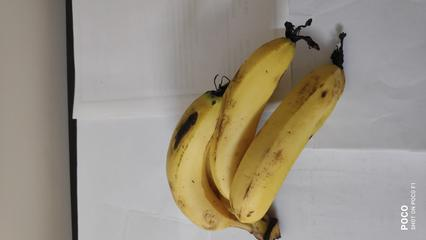banana: (168, 34, 307, 235)
